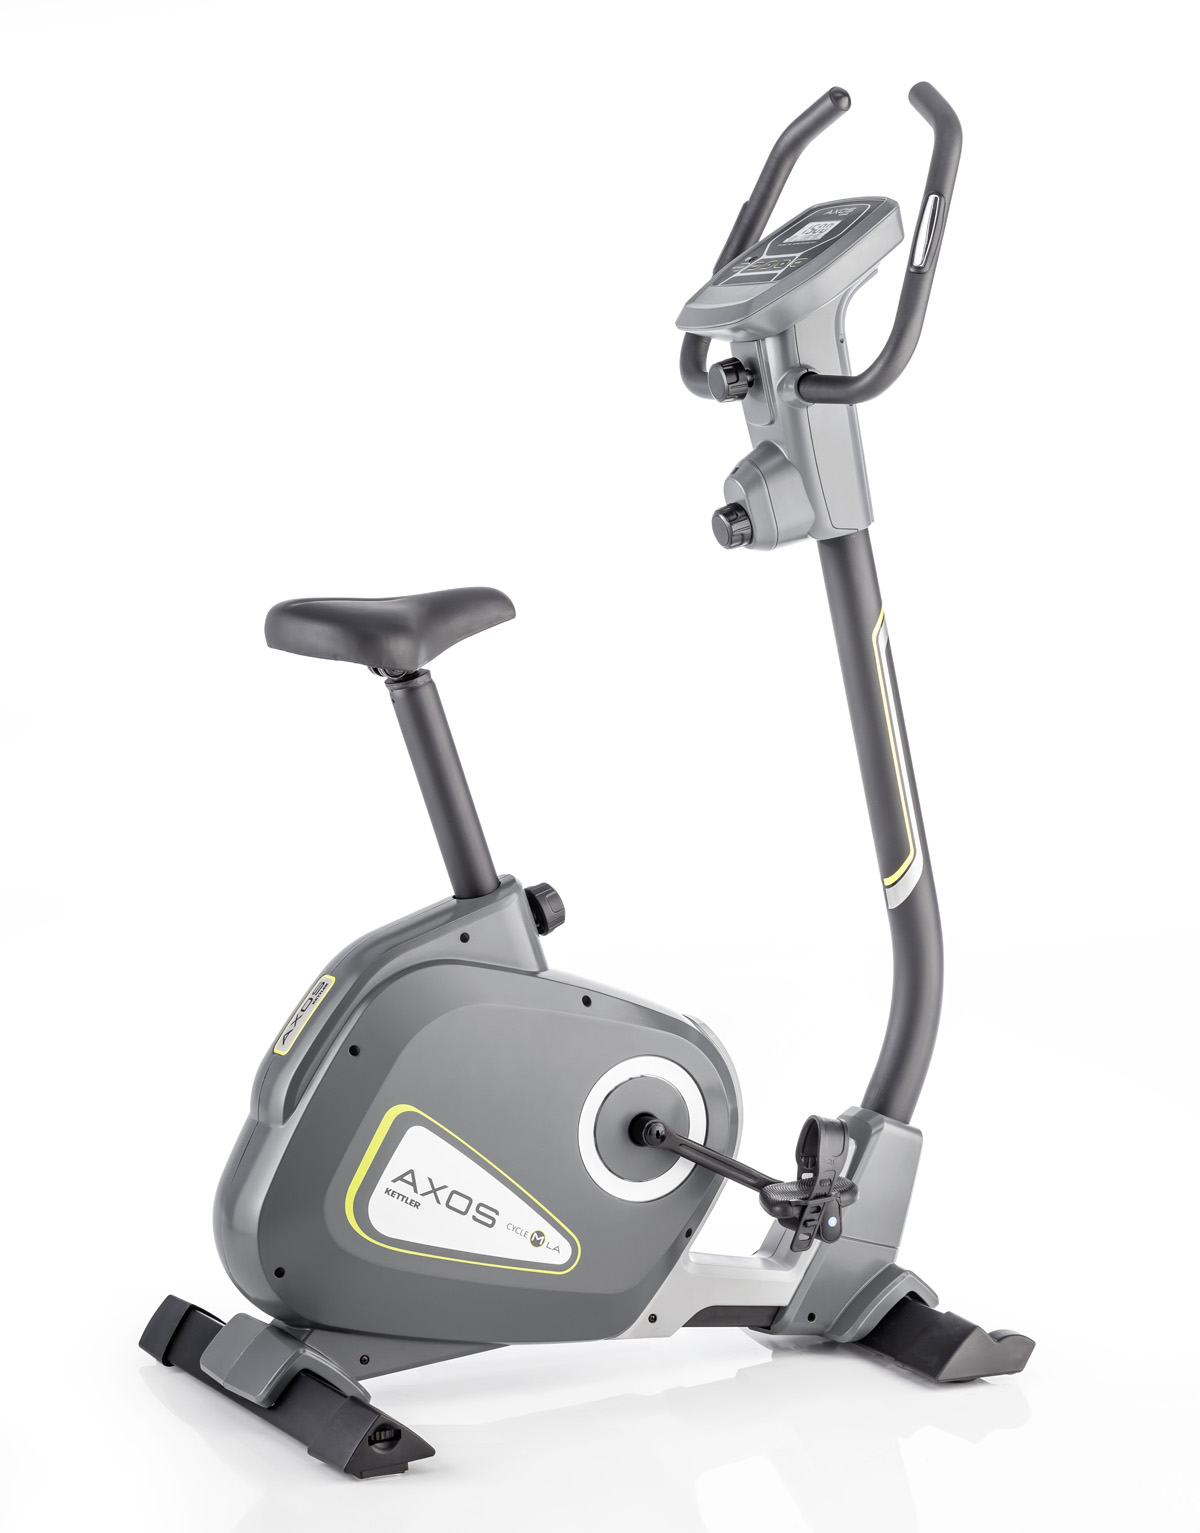gym_bike: (134, 86, 1018, 1443)
